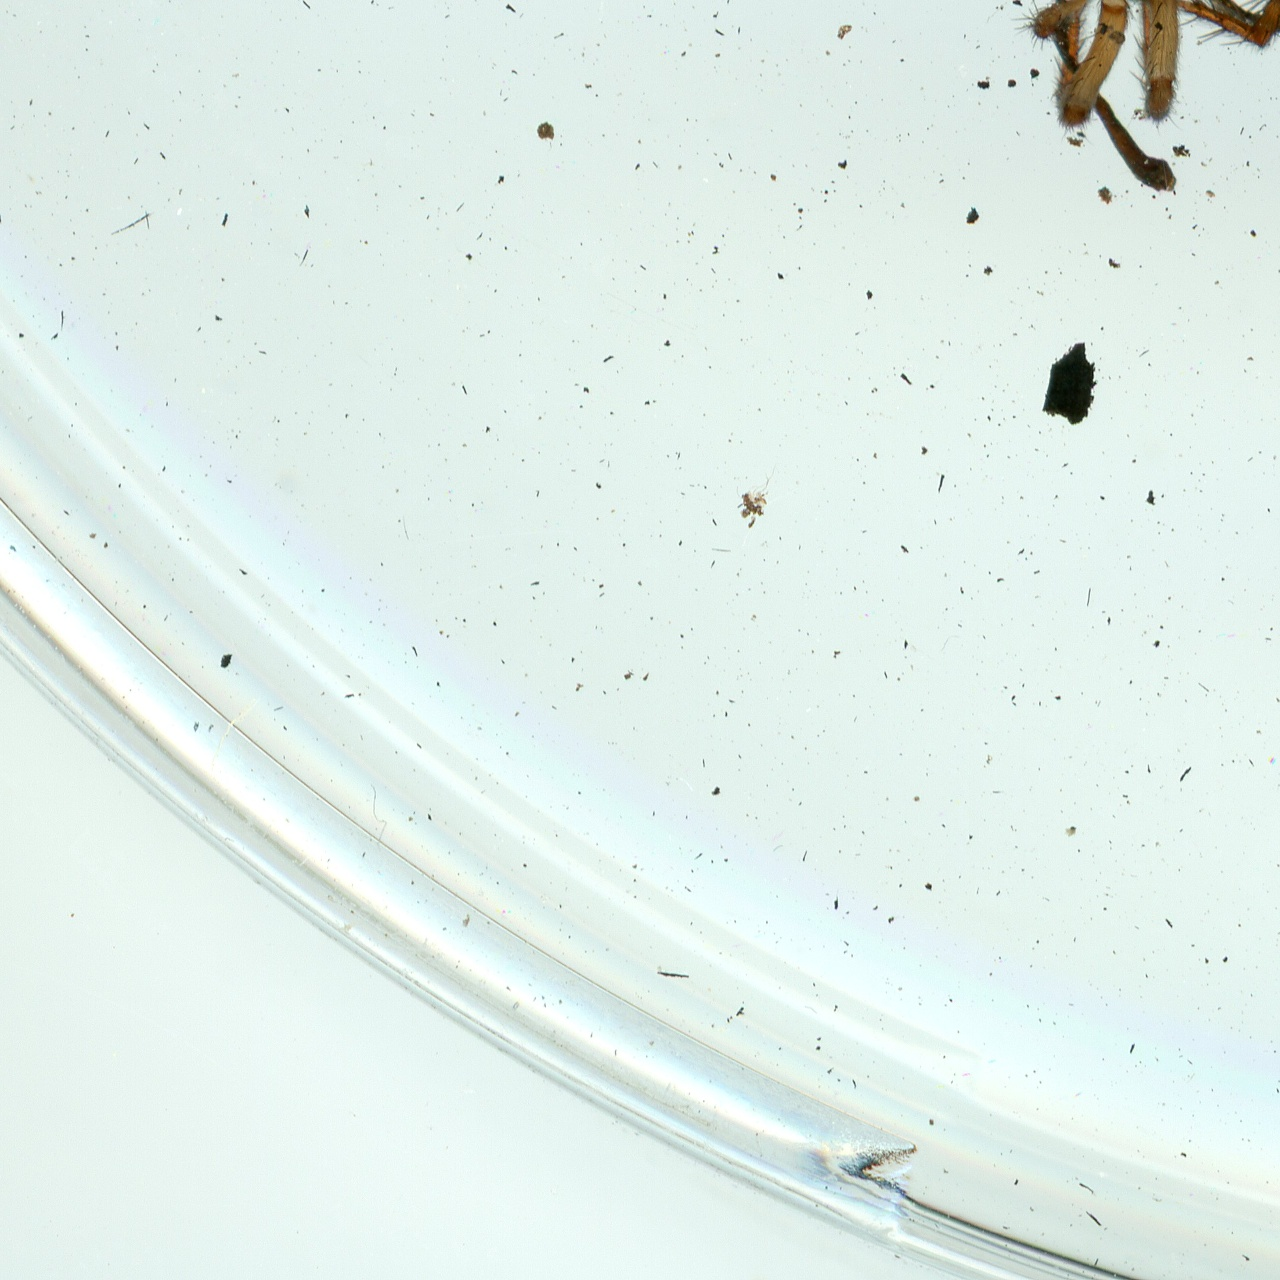arthropod: (872, 0, 1280, 146)
